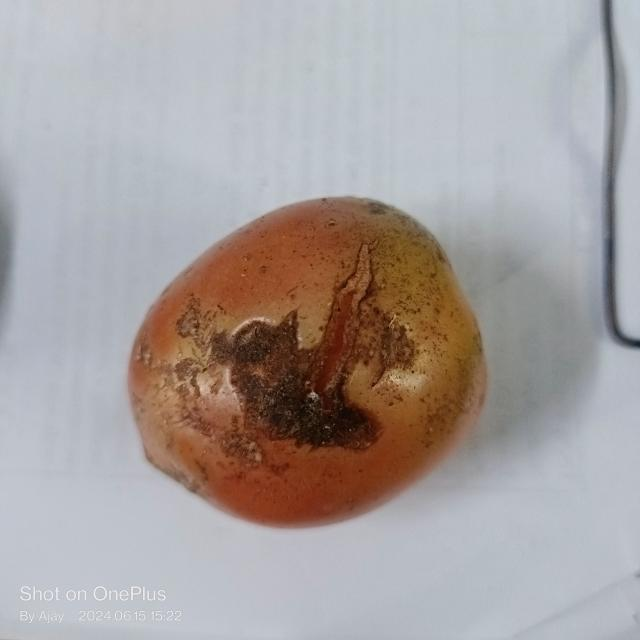tomato_cracking: (164, 241, 418, 458)
